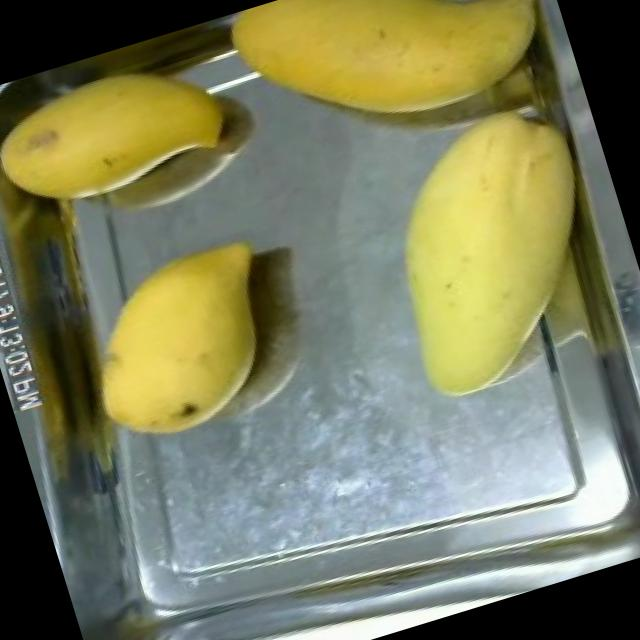fruit: (339, 77, 640, 423), (209, 0, 575, 183), (52, 215, 303, 466), (0, 26, 261, 254)
